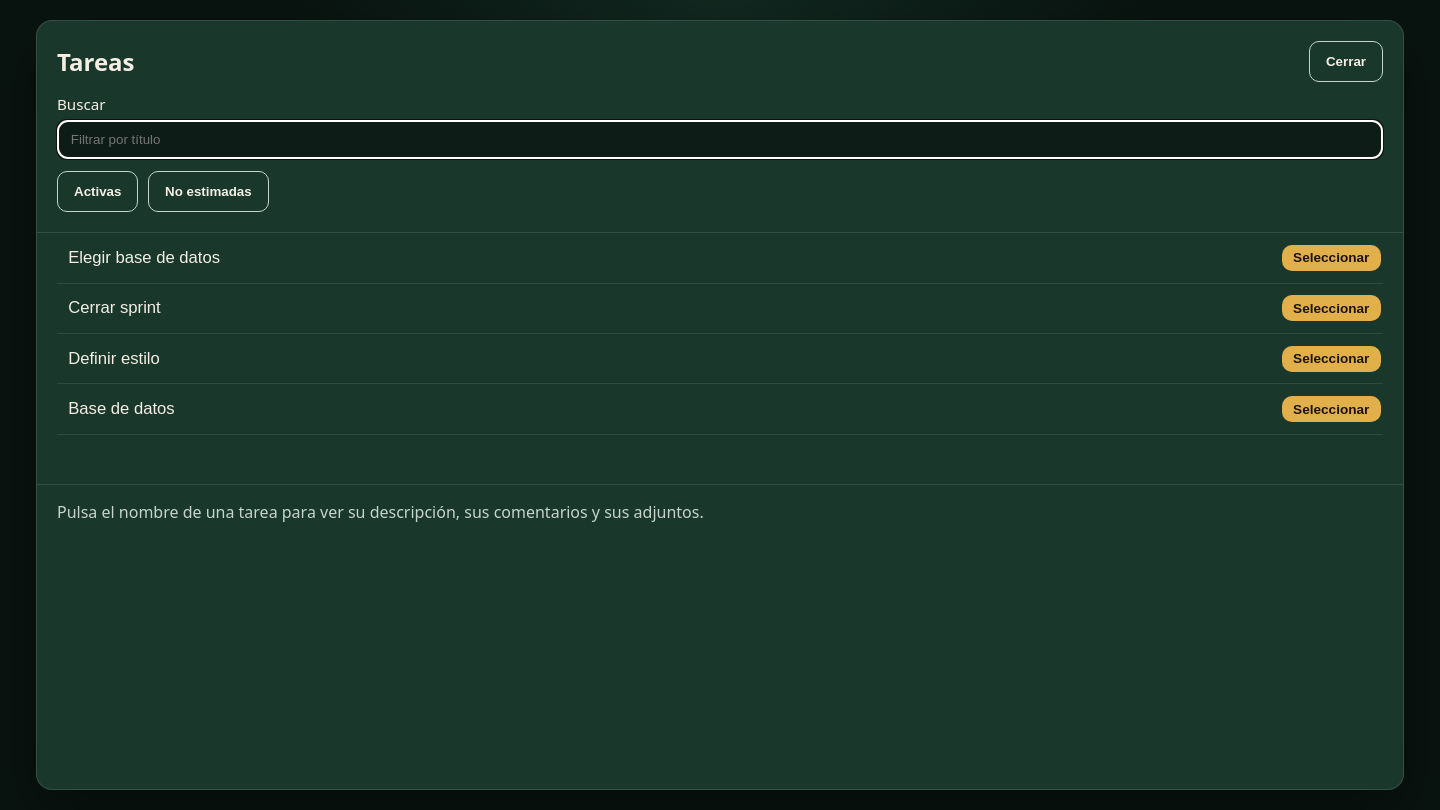
BoardDrawer › shows the description and comments under the list when the title is chosen
The width and height of the screenshot is (1440, 810).
expect the element with class "board-detail" shows "Pulsa el nombre de una tarea": met, box [57, 501, 704, 523]
Click the button with class "board-task-title" showing "Elegir base de datos".
click(144, 257)  # box [57, 233, 1276, 283]
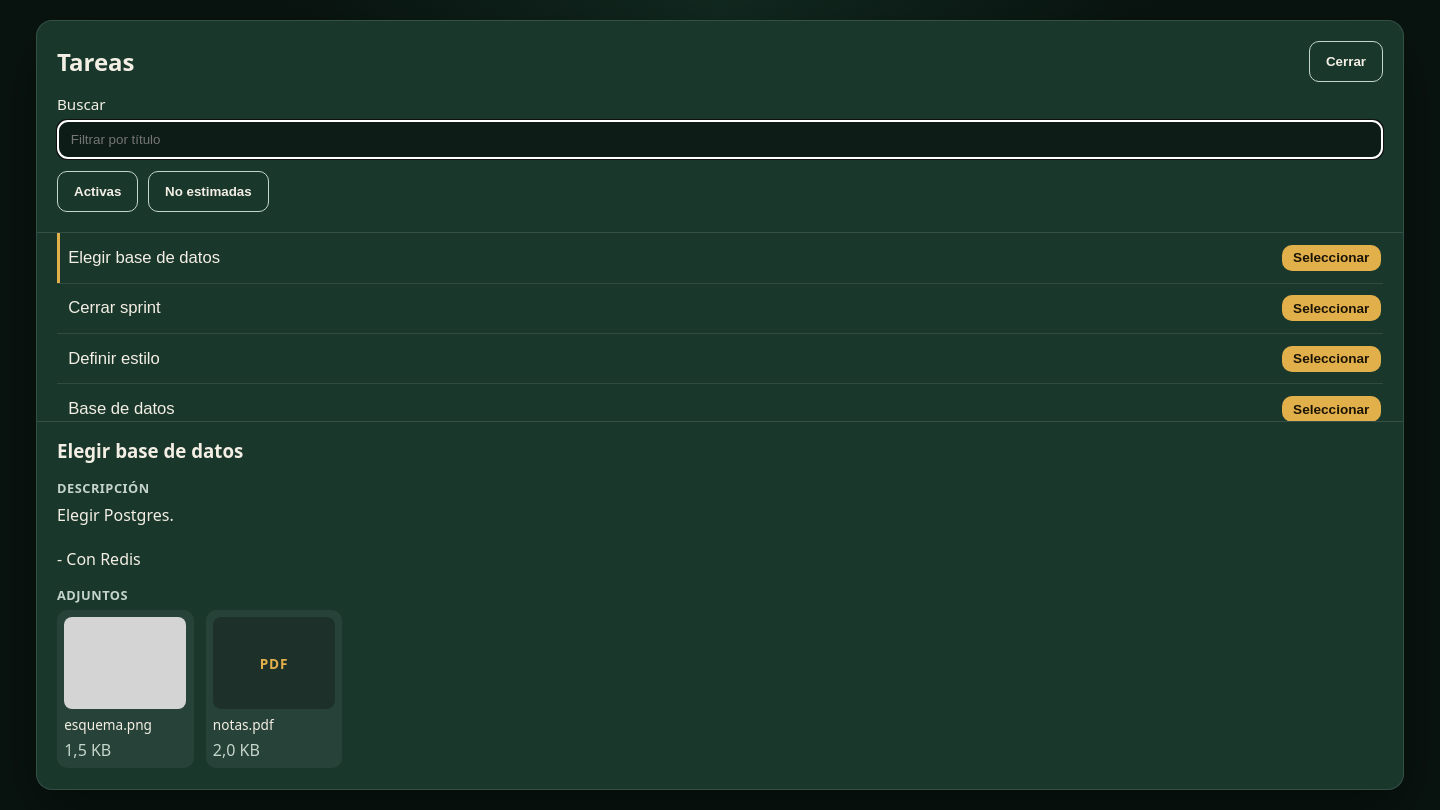
expect the element with class "board-detail" shows "Elegir base de datos": met, box [57, 438, 243, 463]
expect the element with class "board-detail" shows "Elegir Postgres.": met, box [57, 504, 174, 570]
expect the text with class "board-attachment-fallback" reads "PDF": met, box [260, 654, 288, 673]
